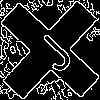J: (25, 25, 77, 76)
